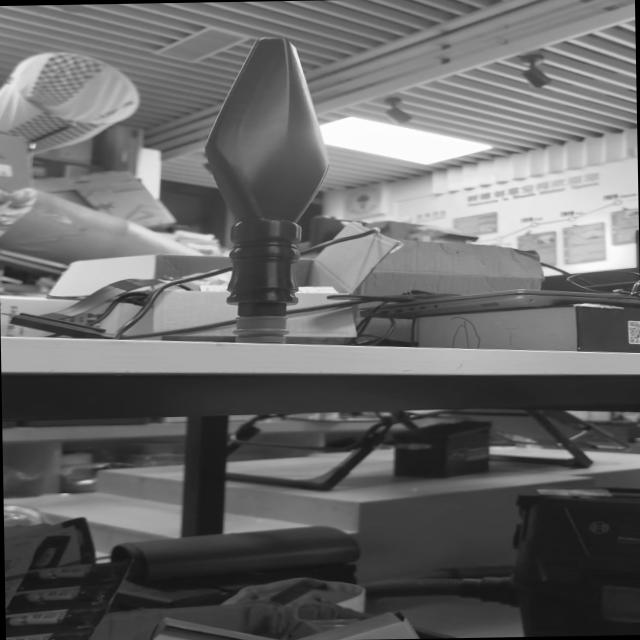base: (227, 310, 292, 350)
